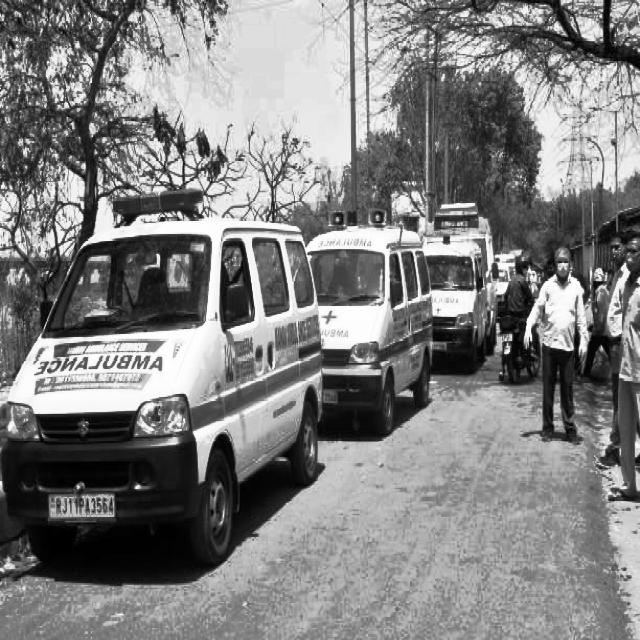Ambulance: (220, 337, 323, 400), (34, 348, 181, 389), (110, 181, 208, 230), (380, 300, 429, 365), (316, 297, 349, 358), (431, 280, 463, 334)
